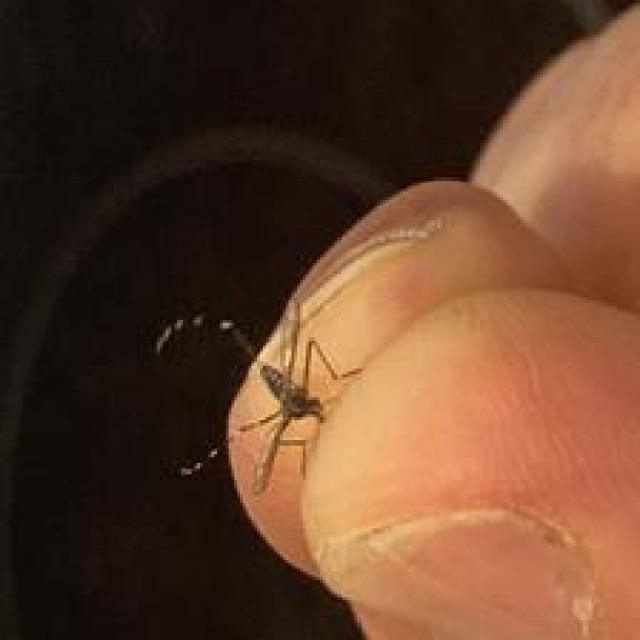Aedes albopictus: (234, 333, 363, 496)
